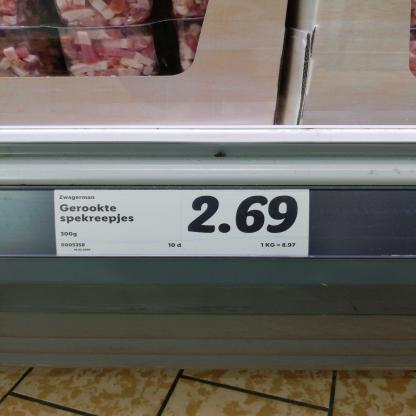prtg: (56, 190, 310, 257)
